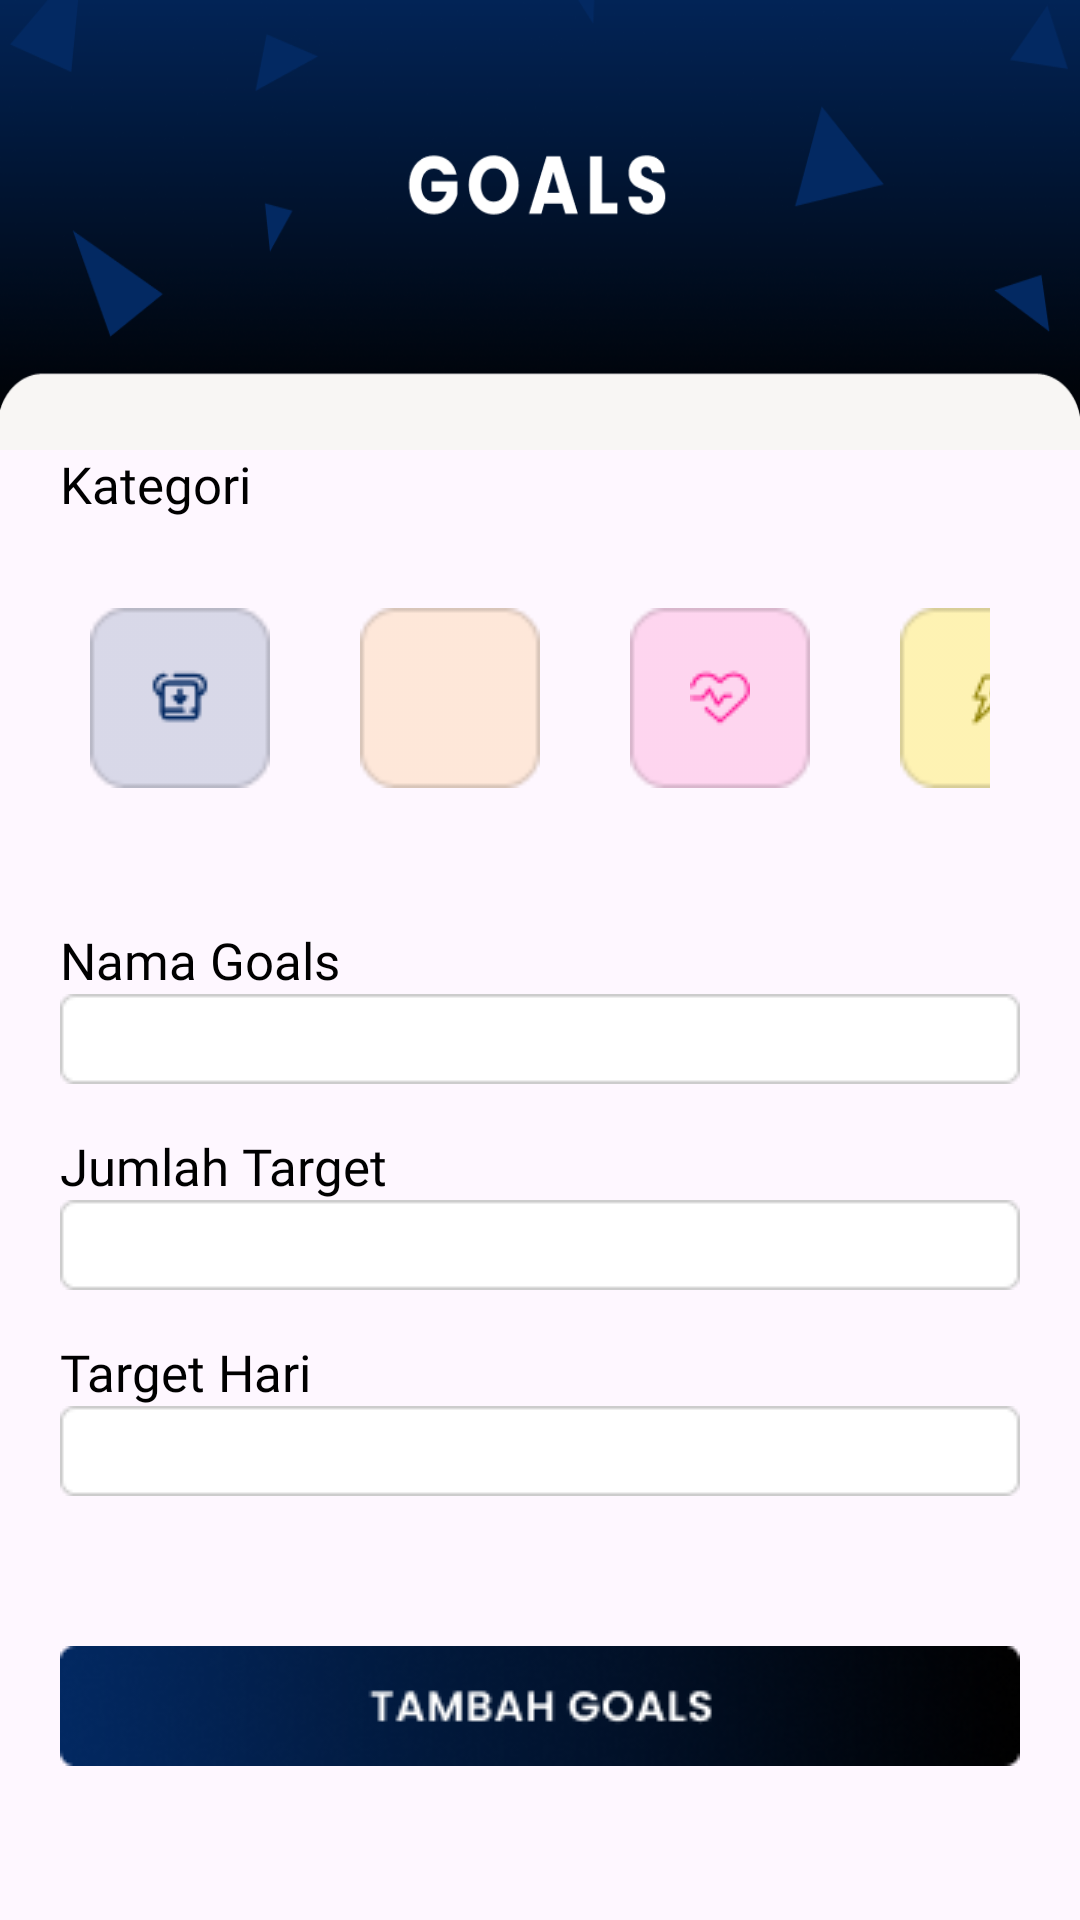

Icons on this 1080×1920 Android screen, each with its box as detection(x1, y1, x2, y2):
solar cashoutbroken: detection(90, 608, 270, 788)
